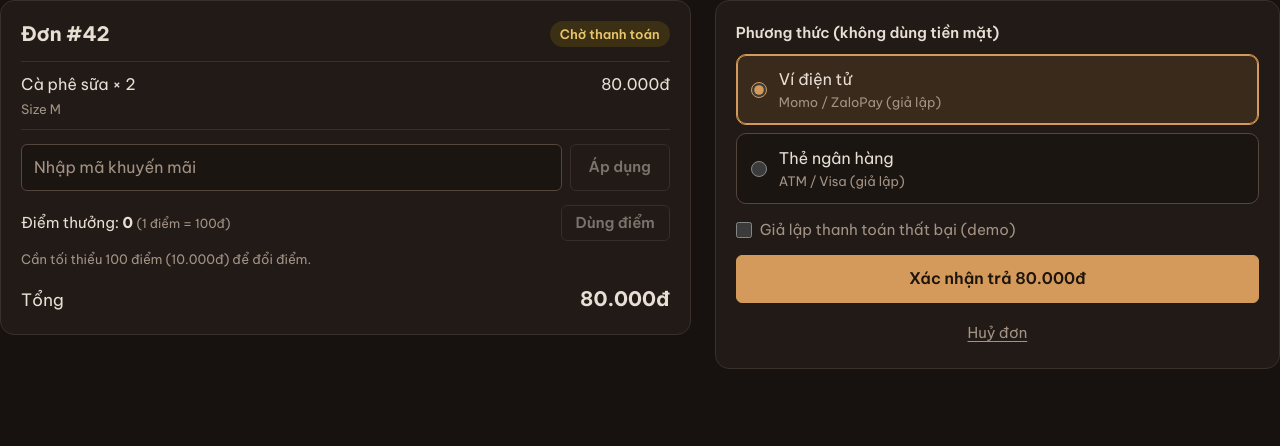
Test: Checkout — mã khuyến mãi (FR-18) › áp mã hợp lệ: hiện tạm tính, giảm giá và tổng mới do server tính
This screenshot has width=1280, height=446.
Type "brew10" into the field labelled "mã khuyến mãi" at (291, 168), box top-left (21, 144), bottom-right (562, 191)
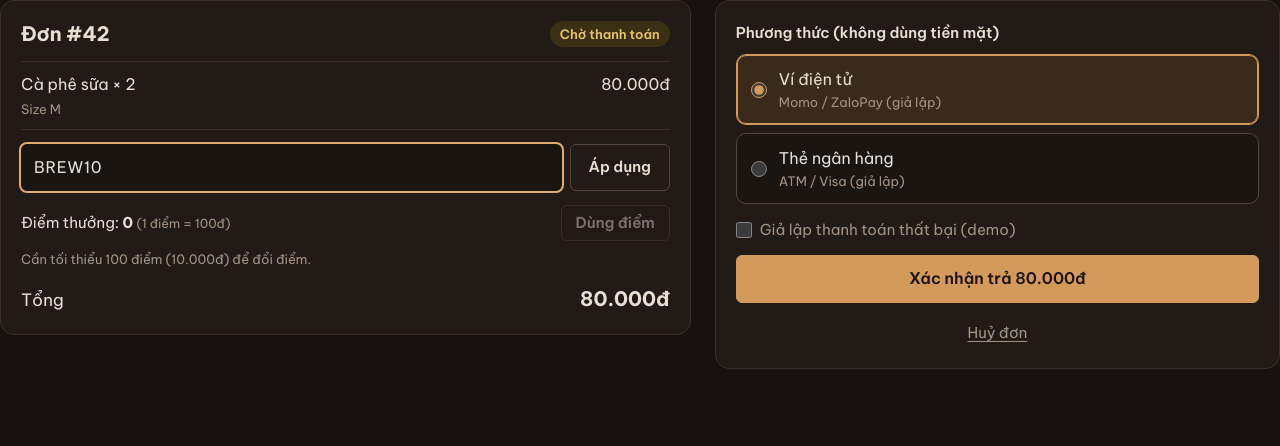
Click the button "Áp dụng" at (620, 168), box top-left (570, 144), bottom-right (670, 191)
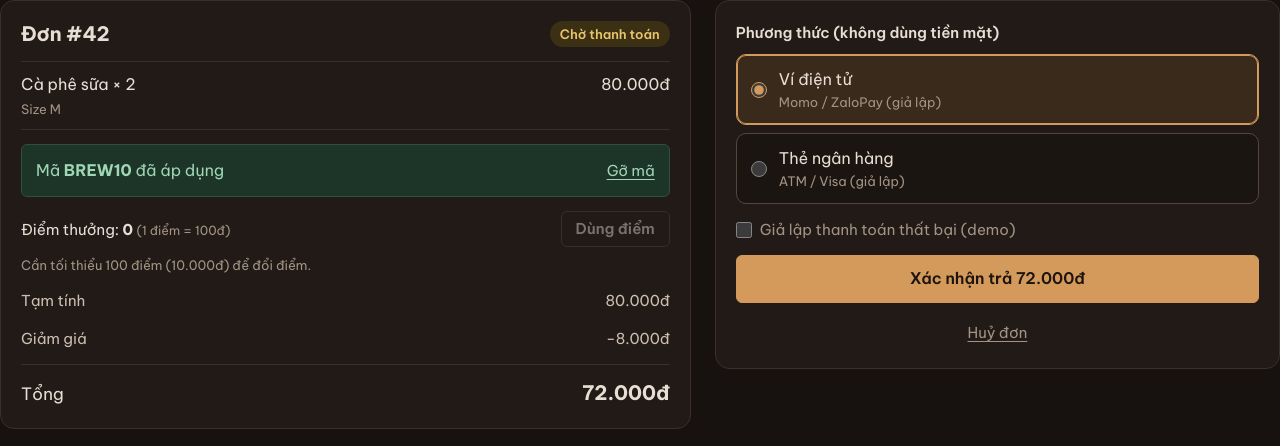
expect the element with test id "promo-applied" shows "BREW10": met, box top-left (64, 160), bottom-right (132, 180)
expect the text with test id "order-discount" shows "8.000đ": met, box top-left (616, 329), bottom-right (670, 348)
expect the text with test id "order-total" reads "72.000đ": met, box top-left (582, 380), bottom-right (670, 405)
